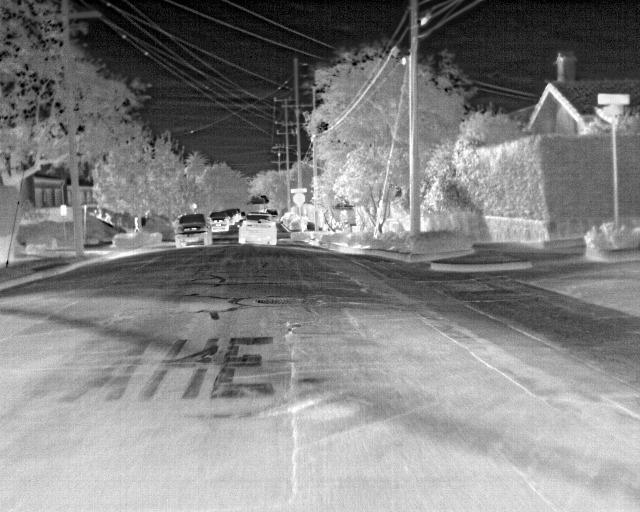car: (173, 214, 213, 248), (239, 213, 276, 246), (209, 210, 228, 232), (228, 206, 242, 223)
